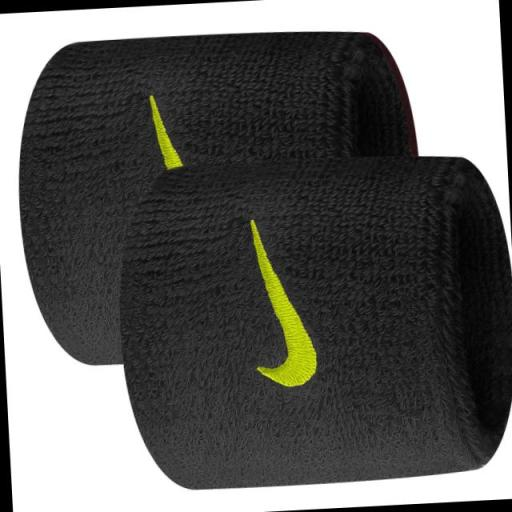Nike: (246, 212, 320, 389)
